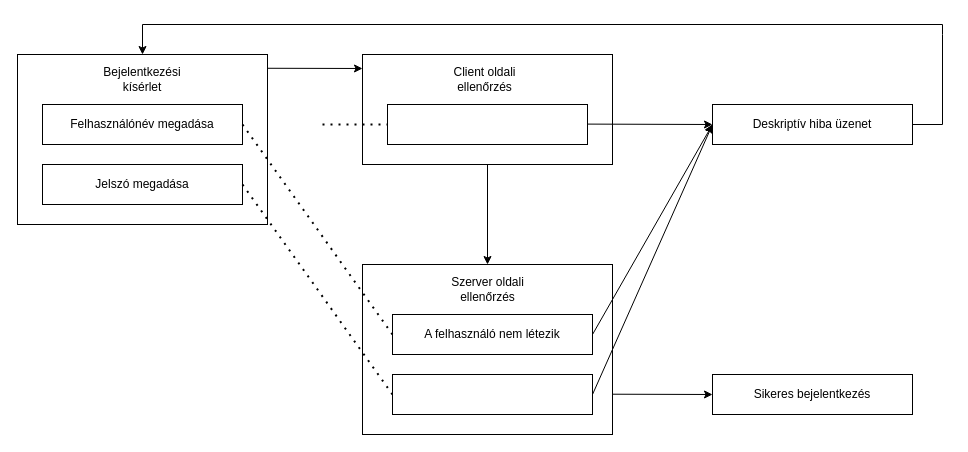
This 968x452 diagram has some shape labels left out. Here are the shapes that lost their labels. From the top down, the centre of each, then its label:
At (487,124): "Üres mező".
At (492,394): "Hibás jelszó".
